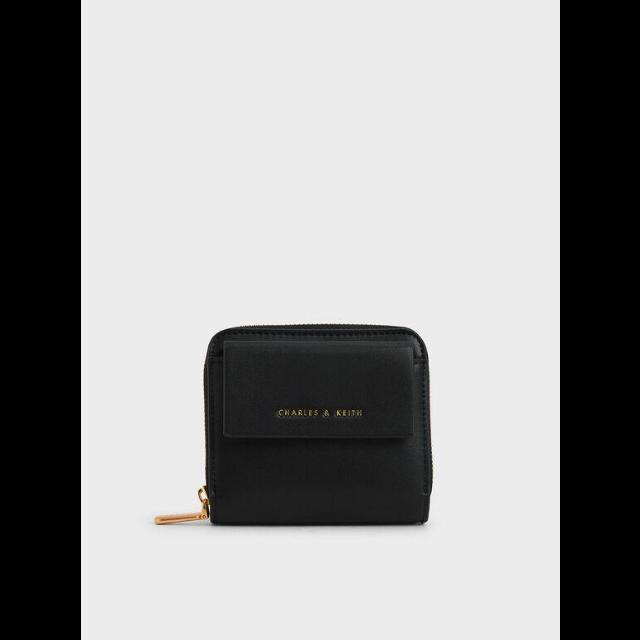wallet: (192, 322, 438, 534)
